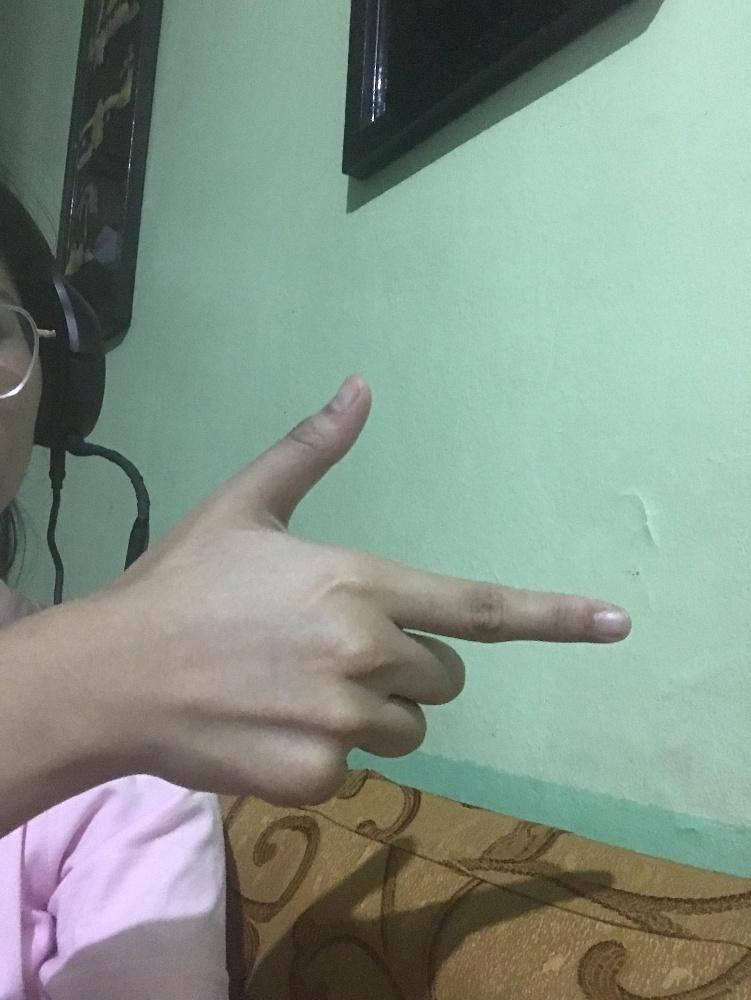g: (143, 371, 634, 805)
